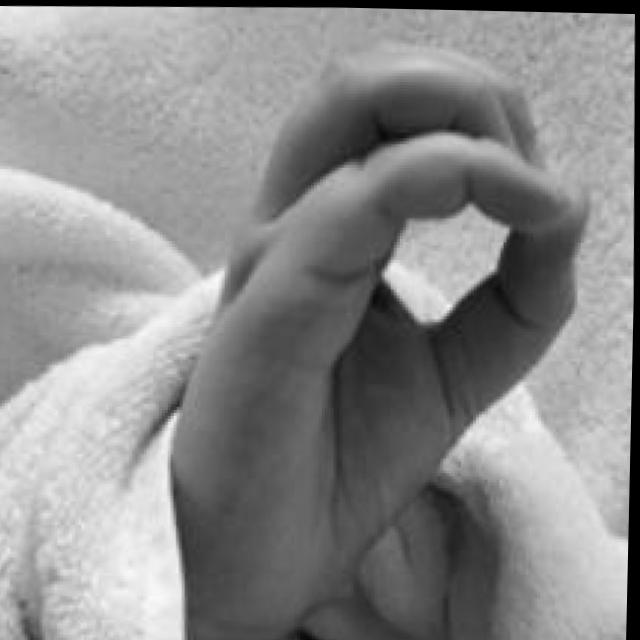O: (182, 37, 602, 640)
